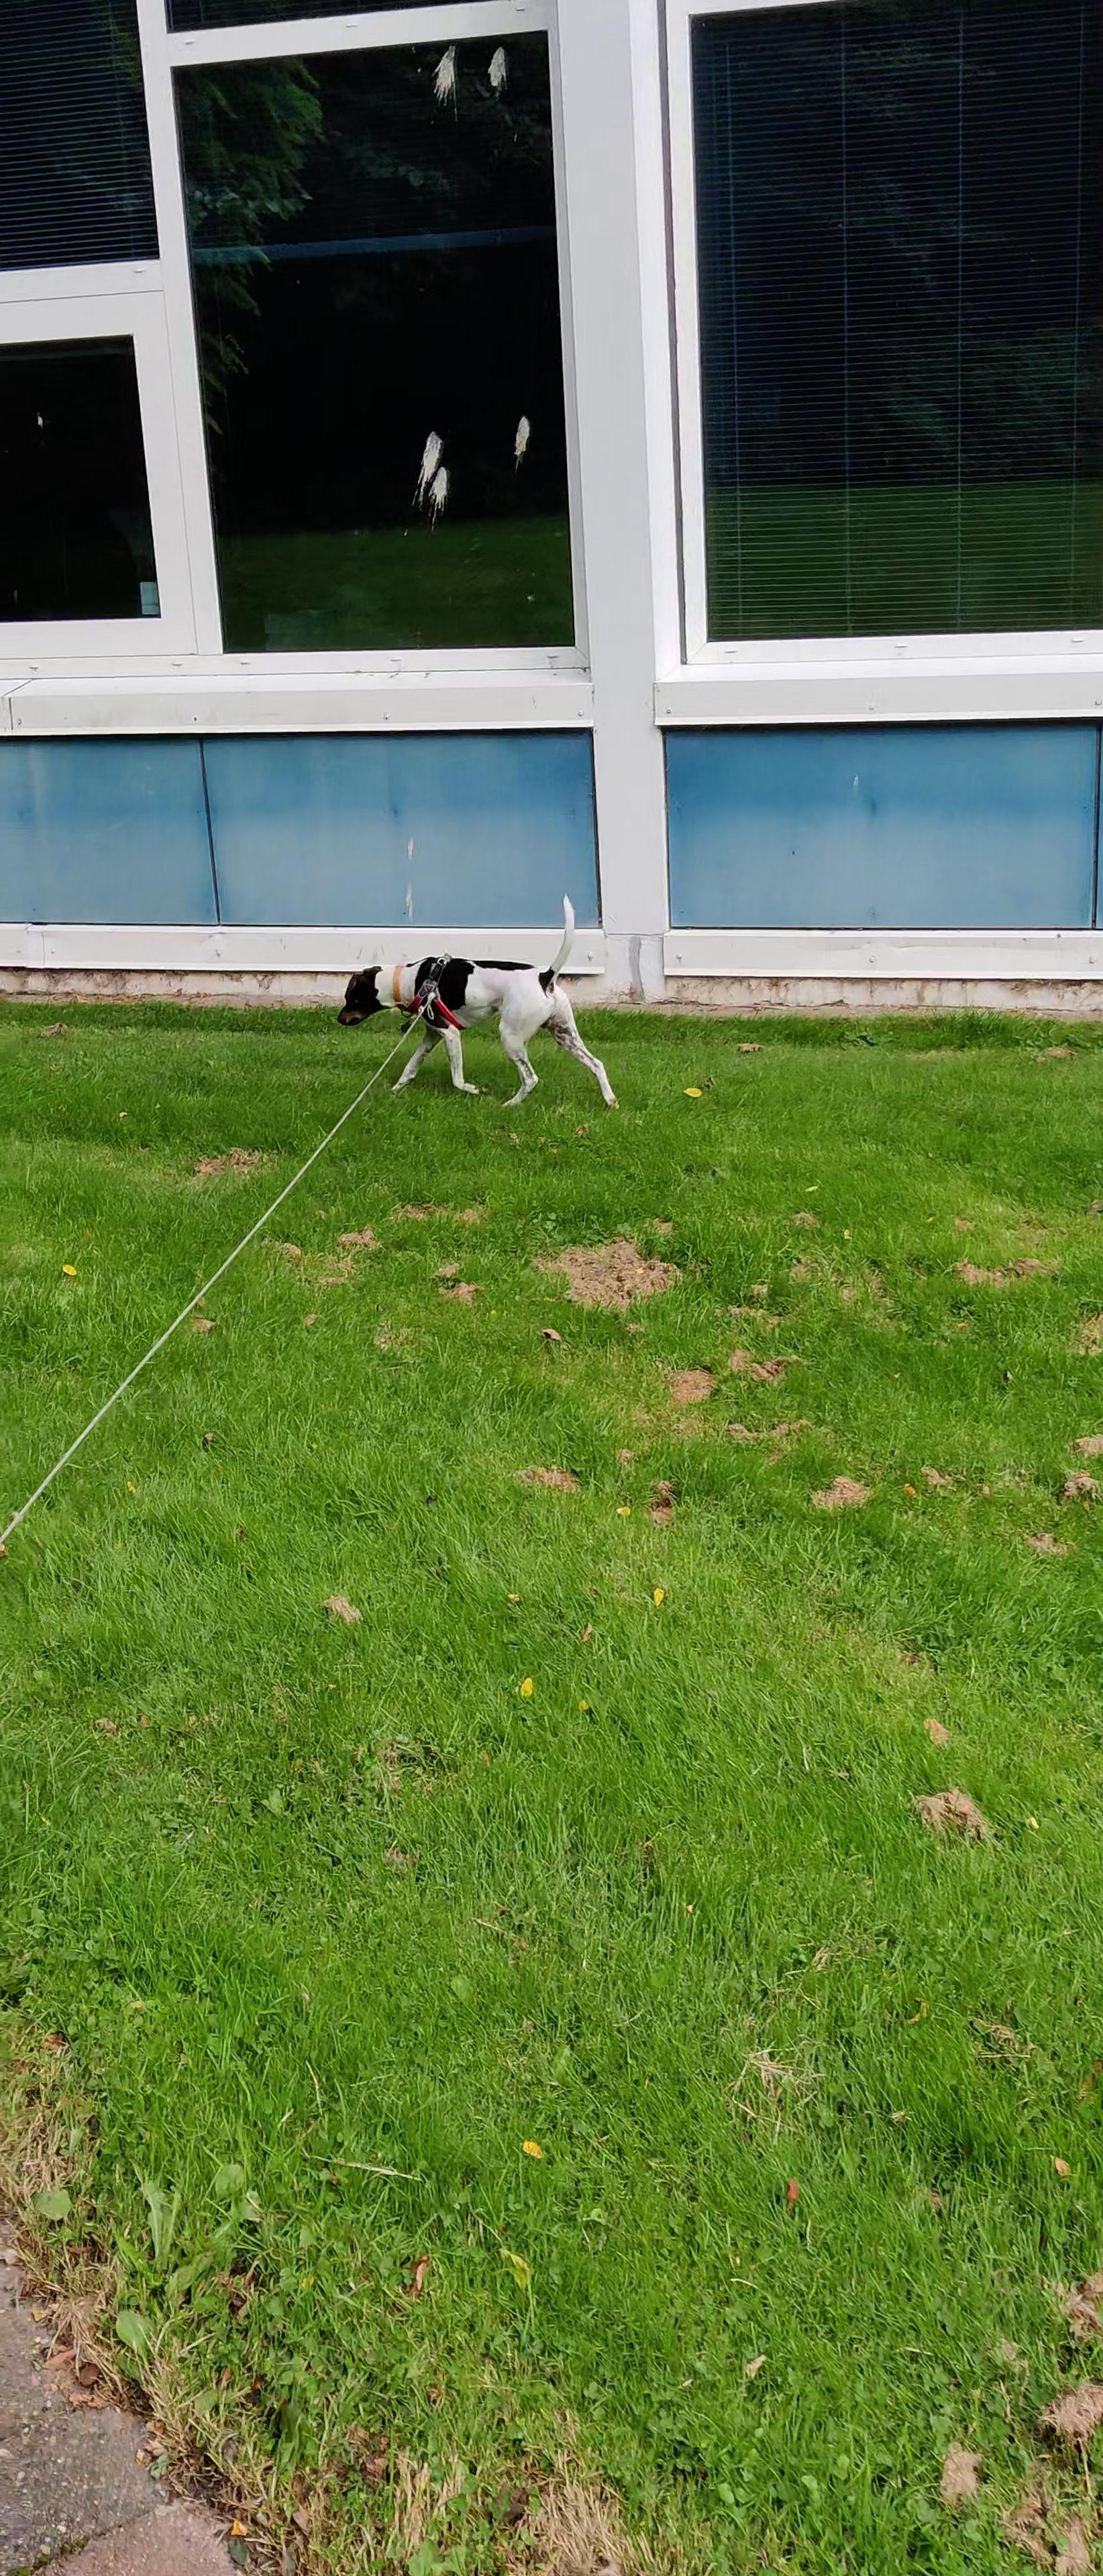Dog: (337, 885, 623, 1114)
